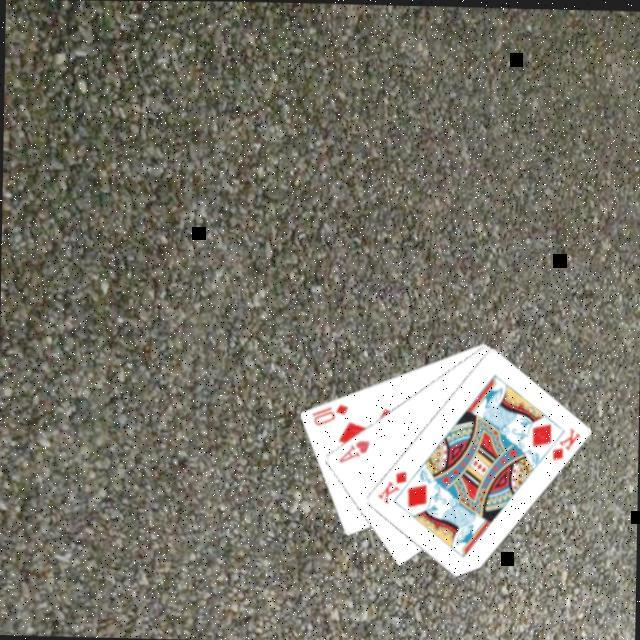10D: (310, 399, 352, 428)
AH: (336, 436, 375, 466)
KD: (550, 424, 585, 464), (376, 467, 410, 508)
